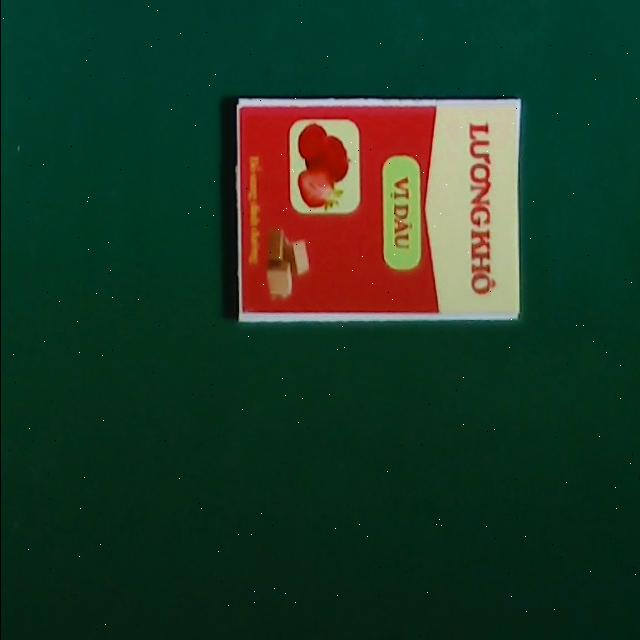dau: (234, 98, 520, 323)
